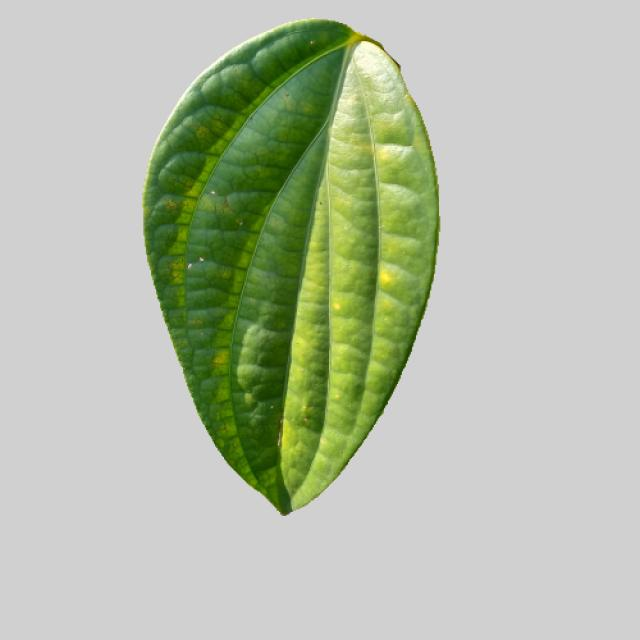healthy: (140, 8, 447, 525)
